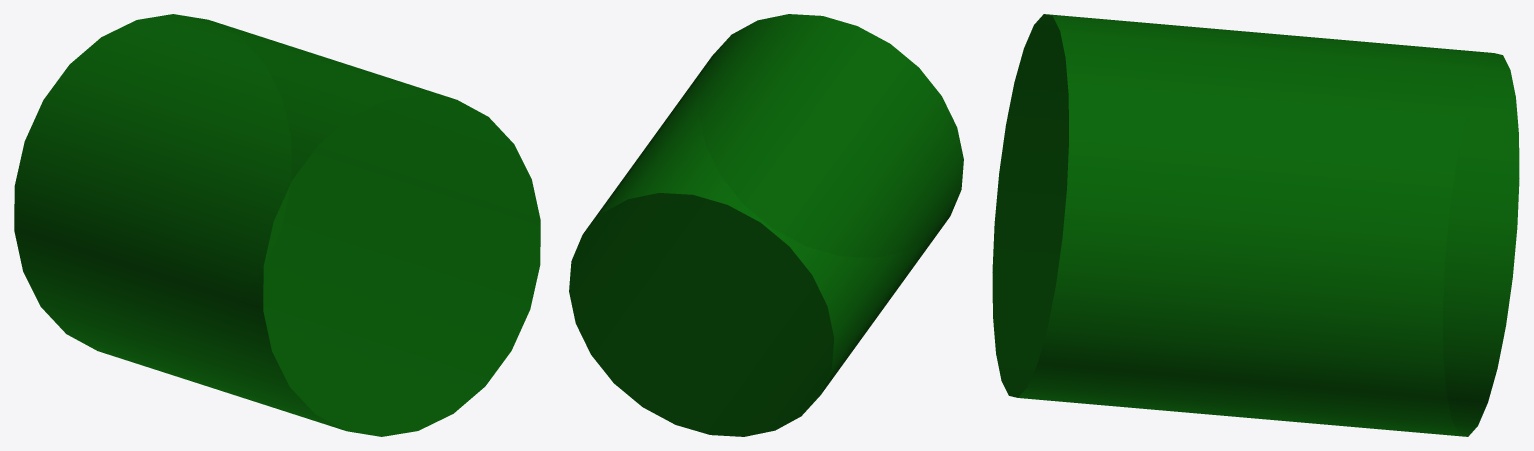
Rendered from Event_105485643_jet_6.fbx.
The picture shows the model from 3 angles, left to right: view 1: azimuth 30°, elevation 25°; view 2: azimuth 150°, elevation 25°; view 3: azimuth 270°, elevation 25°; orthographic projection. The views are drawn at different scales.
Visible parts, largest first — view 1: Model; view 2: Model; view 3: Model.
Part boxes in pixels (left/top/right/bottom): Model: left=14, top=14, right=540, bottom=436; Model: left=569, top=14, right=963, bottom=436; Model: left=992, top=14, right=1519, bottom=436.
Size of the model in its own units: 0.0457 by 0.0468 by 0.0545.
